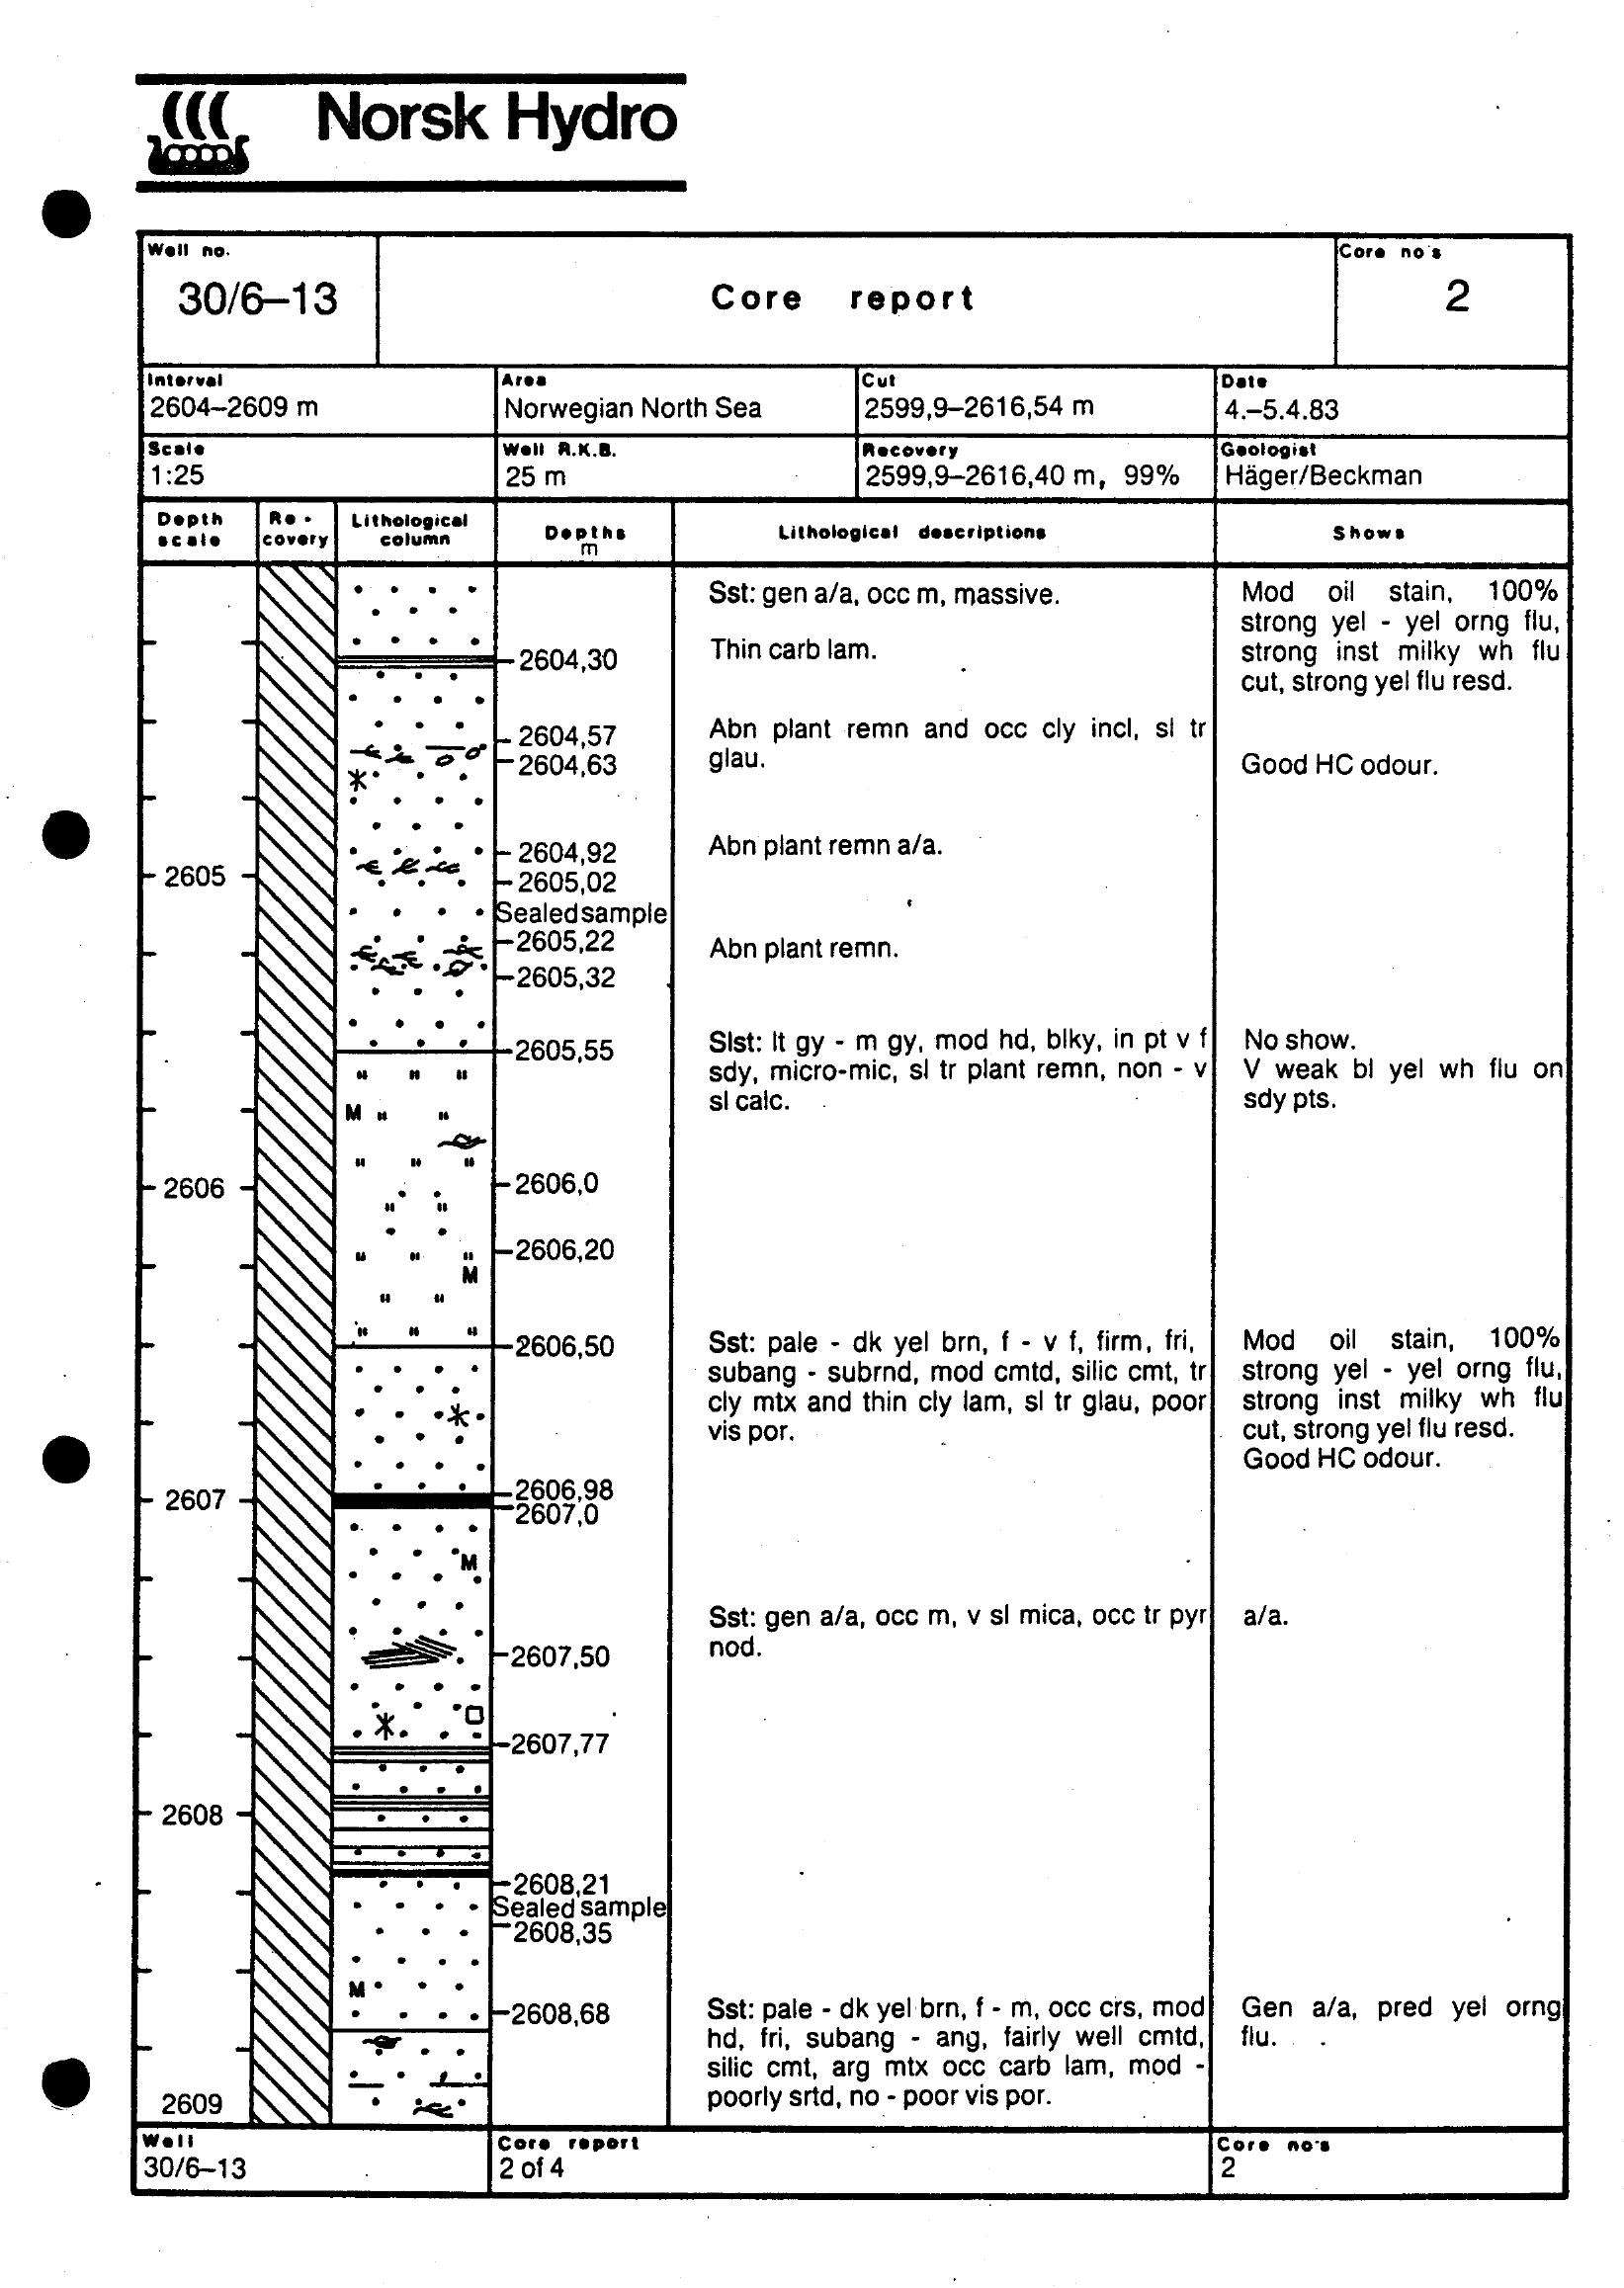graph: (130, 223, 1596, 2219)
undefined: (123, 56, 698, 202)
